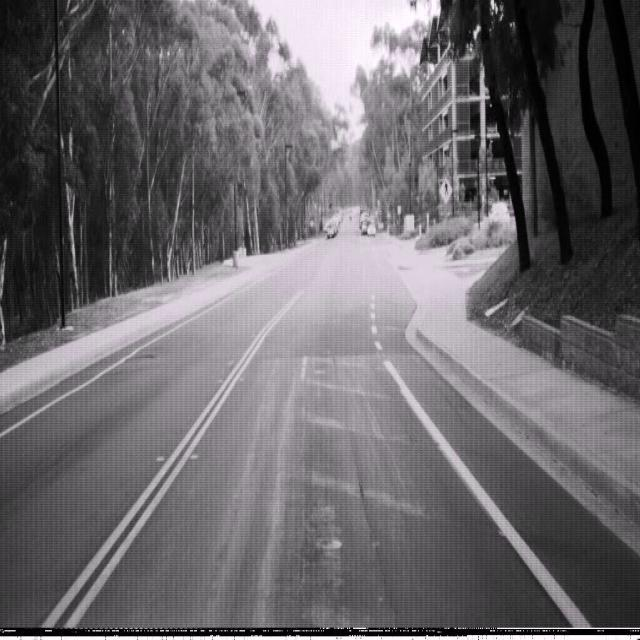pedestrianCrossing: (438, 175, 453, 206)
